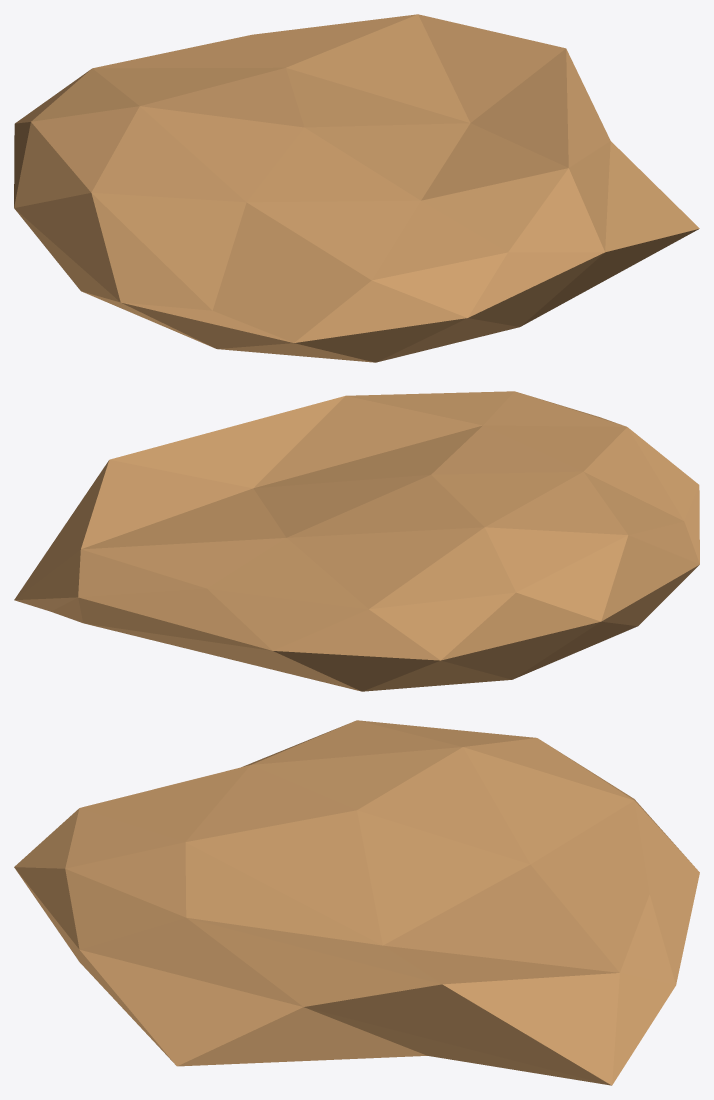
File: Rock Orange Md 001.fbx
3 views of the same model, one above another, from view 1: azimuth 30°, elevation 25°; view 2: azimuth 150°, elevation 25°; view 3: azimuth 270°, elevation 25° (orthographic). The views are drawn at different scales.
Visible parts, largest first — view 1: Rock 001.005; view 2: Rock 001.005; view 3: Rock 001.005.
Part boxes in pixels (<box>): Rock 001.005: <box>14,14,699,362</box>; Rock 001.005: <box>14,391,699,691</box>; Rock 001.005: <box>14,720,699,1085</box>.
Size of the model in its own units: 172 by 40.59 by 184.
